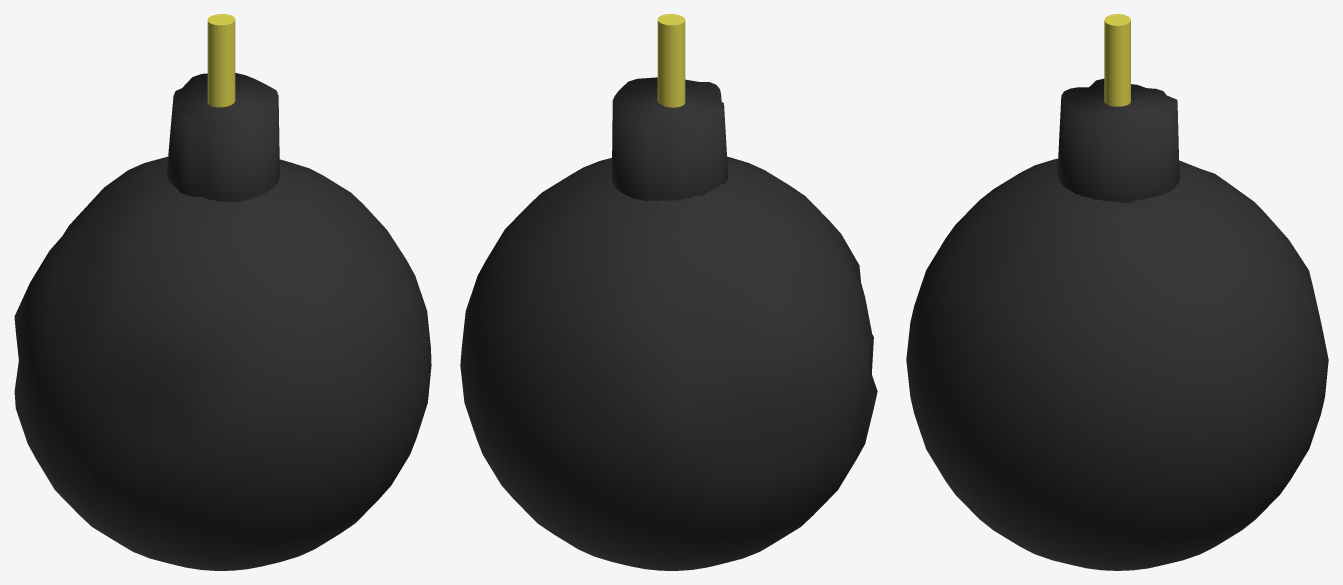
The model's file is bomb.glb.
3 renders of one model, left to right at view 1: azimuth 30°, elevation 25°; view 2: azimuth 150°, elevation 25°; view 3: azimuth 270°, elevation 25°, orthographic.
Visible parts, largest first — view 1: Sphere, Cylinder; view 2: Sphere, Cylinder; view 3: Sphere, Cylinder.
Part boxes in pixels (bbox=[...]): Sphere: bbox=[14, 73, 431, 570]; Cylinder: bbox=[207, 14, 235, 107]; Sphere: bbox=[460, 77, 877, 570]; Cylinder: bbox=[657, 14, 685, 107]; Sphere: bbox=[906, 78, 1328, 570]; Cylinder: bbox=[1104, 14, 1130, 106].
Size of the model in its own units: 2 by 2.77 by 2.
